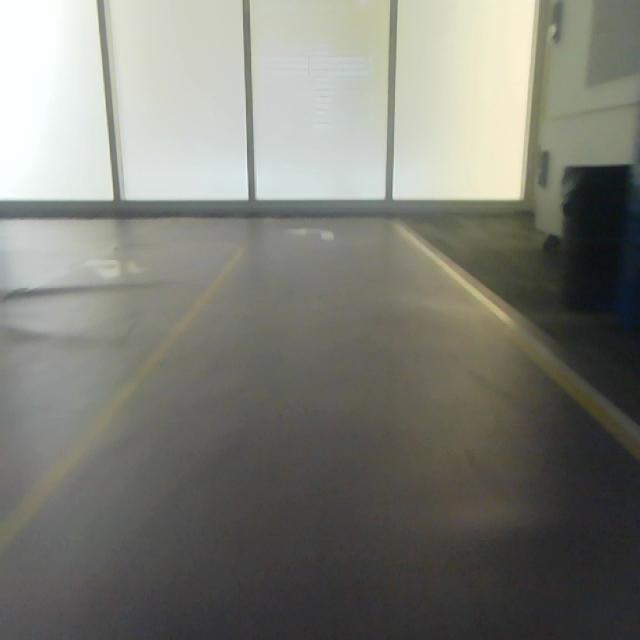left_lane: (0, 249, 242, 559)
right_lane: (396, 229, 640, 466)
